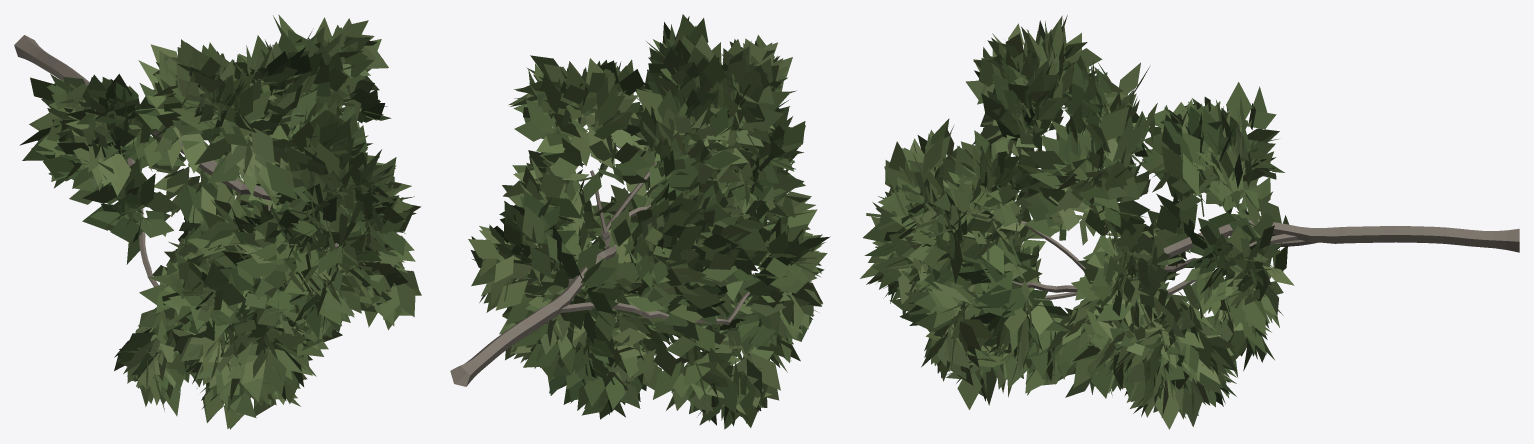
File: tree_mid_04.obj
3 renders of one model, left to right at view 1: azimuth 30°, elevation 25°; view 2: azimuth 150°, elevation 25°; view 3: azimuth 270°, elevation 25°, orthographic. The views are drawn at different scales.
Parts seen in each view (by area): view 1: tree_mid_04; view 2: tree_mid_04; view 3: tree_mid_04.
Part boxes in pixels (x1=…): tree_mid_04: x1=14, y1=14, x2=421, y2=429; tree_mid_04: x1=450, y1=14, x2=830, y2=429; tree_mid_04: x1=860, y1=15, x2=1519, y2=429.
Size of the model in its own units: 0.5557 by 0.6495 by 1.01.
Materials: 1 (1 with a texture image).
